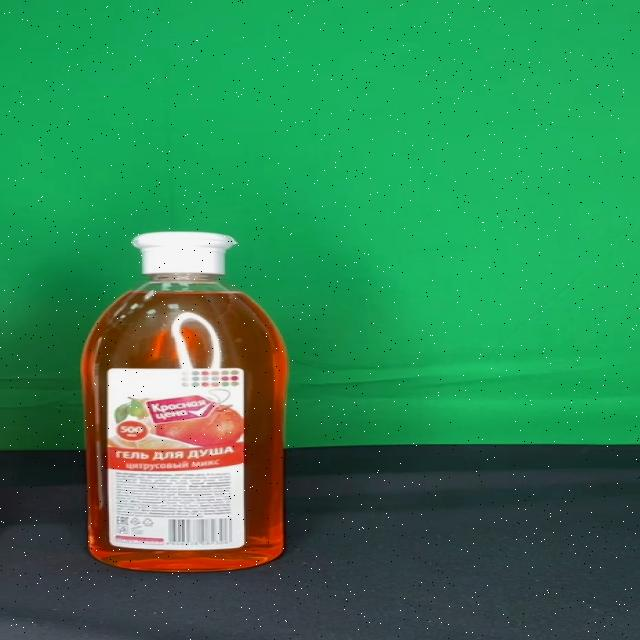Bottle: (81, 231, 288, 573)
Cap: (132, 232, 236, 274)
